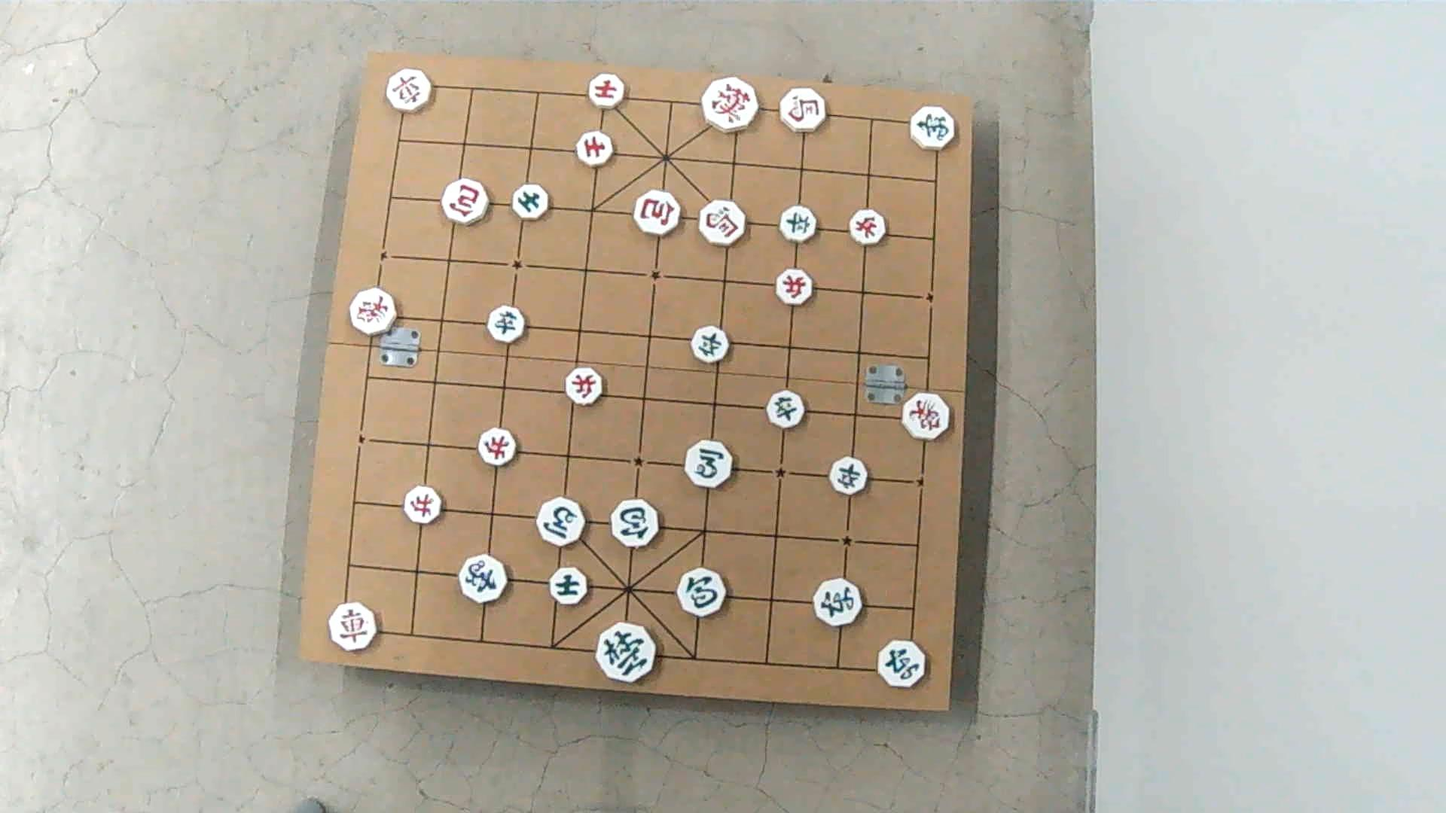cha_green: (816, 578, 865, 625), (877, 641, 924, 688)
cha_red: (333, 604, 379, 651), (386, 69, 431, 112)
jol_green: (828, 456, 866, 494), (691, 327, 729, 364), (767, 393, 804, 431), (779, 204, 816, 242), (487, 309, 523, 345)
jol_red: (404, 486, 442, 524), (478, 430, 515, 468), (566, 366, 603, 404), (778, 269, 814, 305), (851, 209, 886, 245)
ma_green: (686, 441, 734, 489), (537, 497, 585, 545)
ma_red: (699, 200, 745, 245), (780, 88, 825, 132)
po_green: (679, 569, 727, 617), (612, 499, 660, 547)
po_red: (444, 180, 490, 226), (635, 191, 680, 236)
sa_green: (549, 566, 586, 604), (511, 184, 548, 219)
sa_red: (579, 131, 616, 166), (590, 75, 626, 109)
sang_green: (461, 555, 508, 602), (913, 106, 957, 150)
sang_red: (901, 392, 949, 438), (353, 289, 399, 336)
wang_green: (598, 622, 656, 681)
wang_red: (702, 77, 757, 130)
